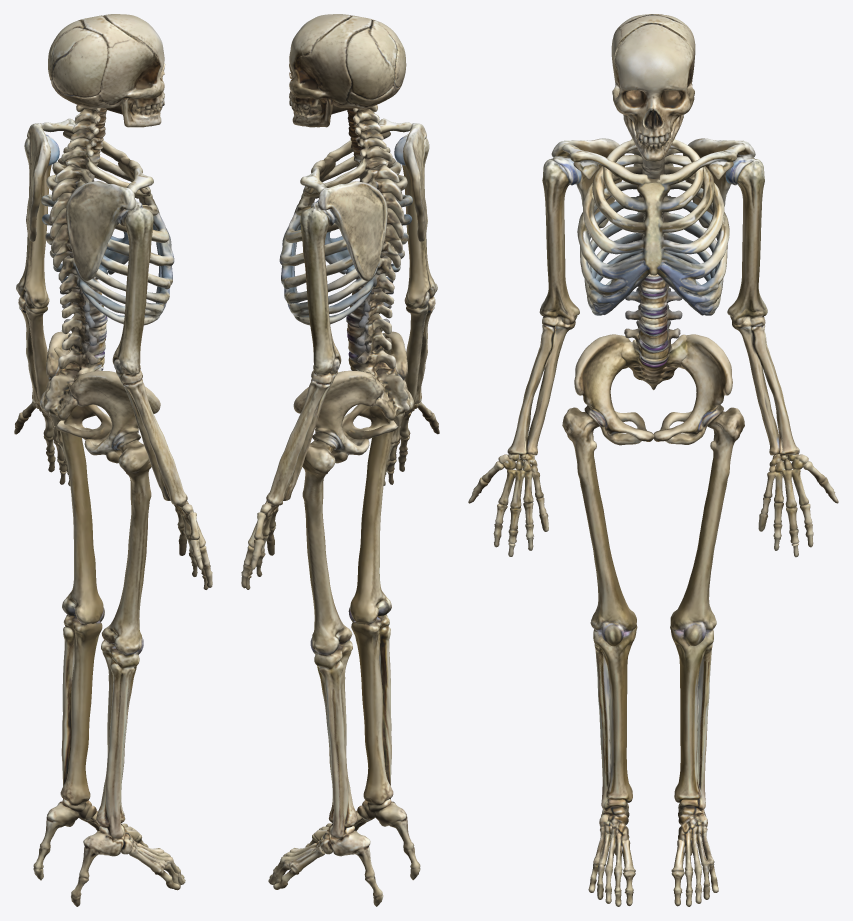
The model's file is skeleton.glb.
3 renders of one model, left to right at view 1: azimuth 30°, elevation 25°; view 2: azimuth 150°, elevation 25°; view 3: azimuth 270°, elevation 25°, orthographic.
Parts seen in each view (by area): view 1: tripo_node_def14027-20ac-4541-bbe2-62b5ff5a9499; view 2: tripo_node_def14027-20ac-4541-bbe2-62b5ff5a9499; view 3: tripo_node_def14027-20ac-4541-bbe2-62b5ff5a9499.
Part boxes in pixels (x1,y1,x2,y2): tripo_node_def14027-20ac-4541-bbe2-62b5ff5a9499: (14,14,212,906); tripo_node_def14027-20ac-4541-bbe2-62b5ff5a9499: (241,14,439,906); tripo_node_def14027-20ac-4541-bbe2-62b5ff5a9499: (468,14,838,906).
Size of the model in its own units: 0.1452 by 0.9819 by 0.385.
Materials: 1 (1 with a texture image).
